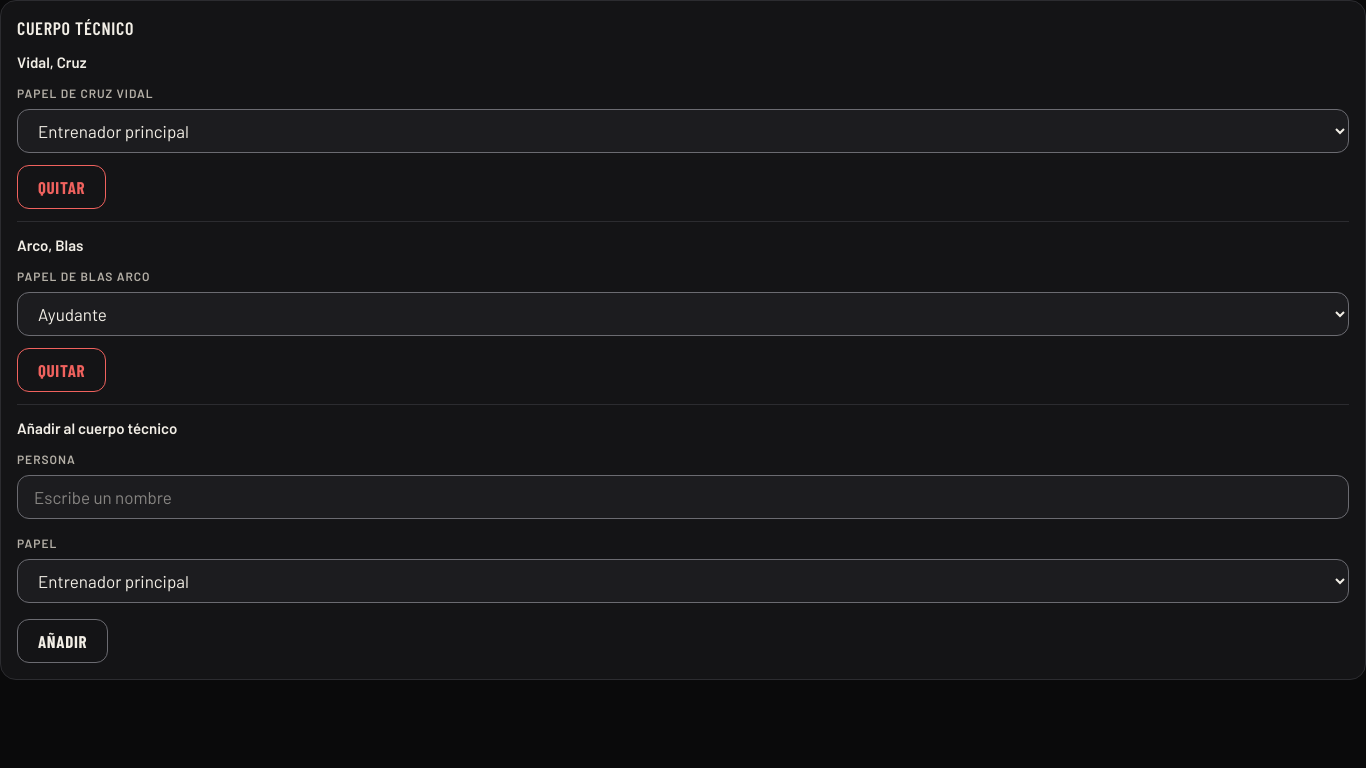
StaffSection · quitar › si no se puede quitar, cierra el diálogo y la fila lo dice
Click the button with aria-label "Quitar a Cruz Vidal del cuerpo técnico": (62, 187) 17,165 -> 106,209
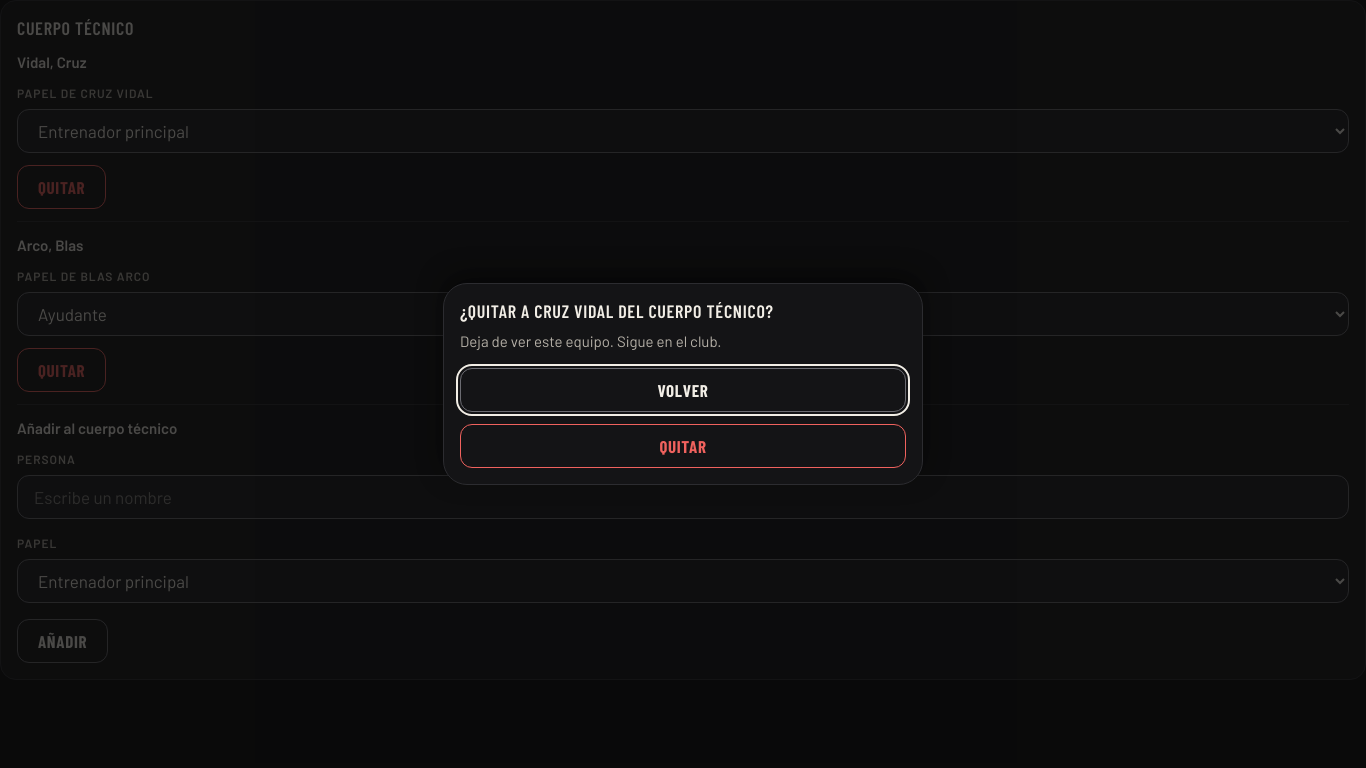
Click the button "Quitar": (683, 446) 460,424 -> 906,468
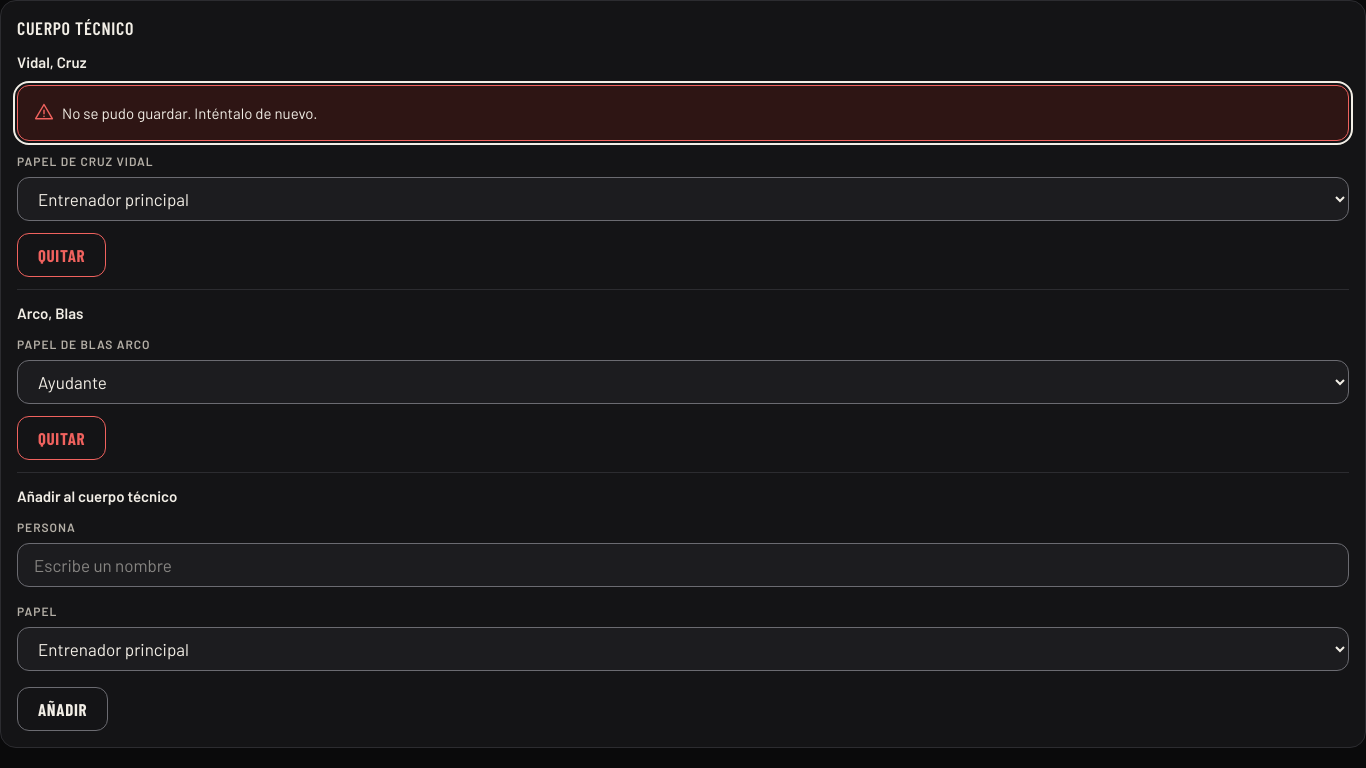
Now the message reads "No se pudo guardar. Inténtalo de nuevo.", box 62,104 -> 318,122
Now the dialog is gone
